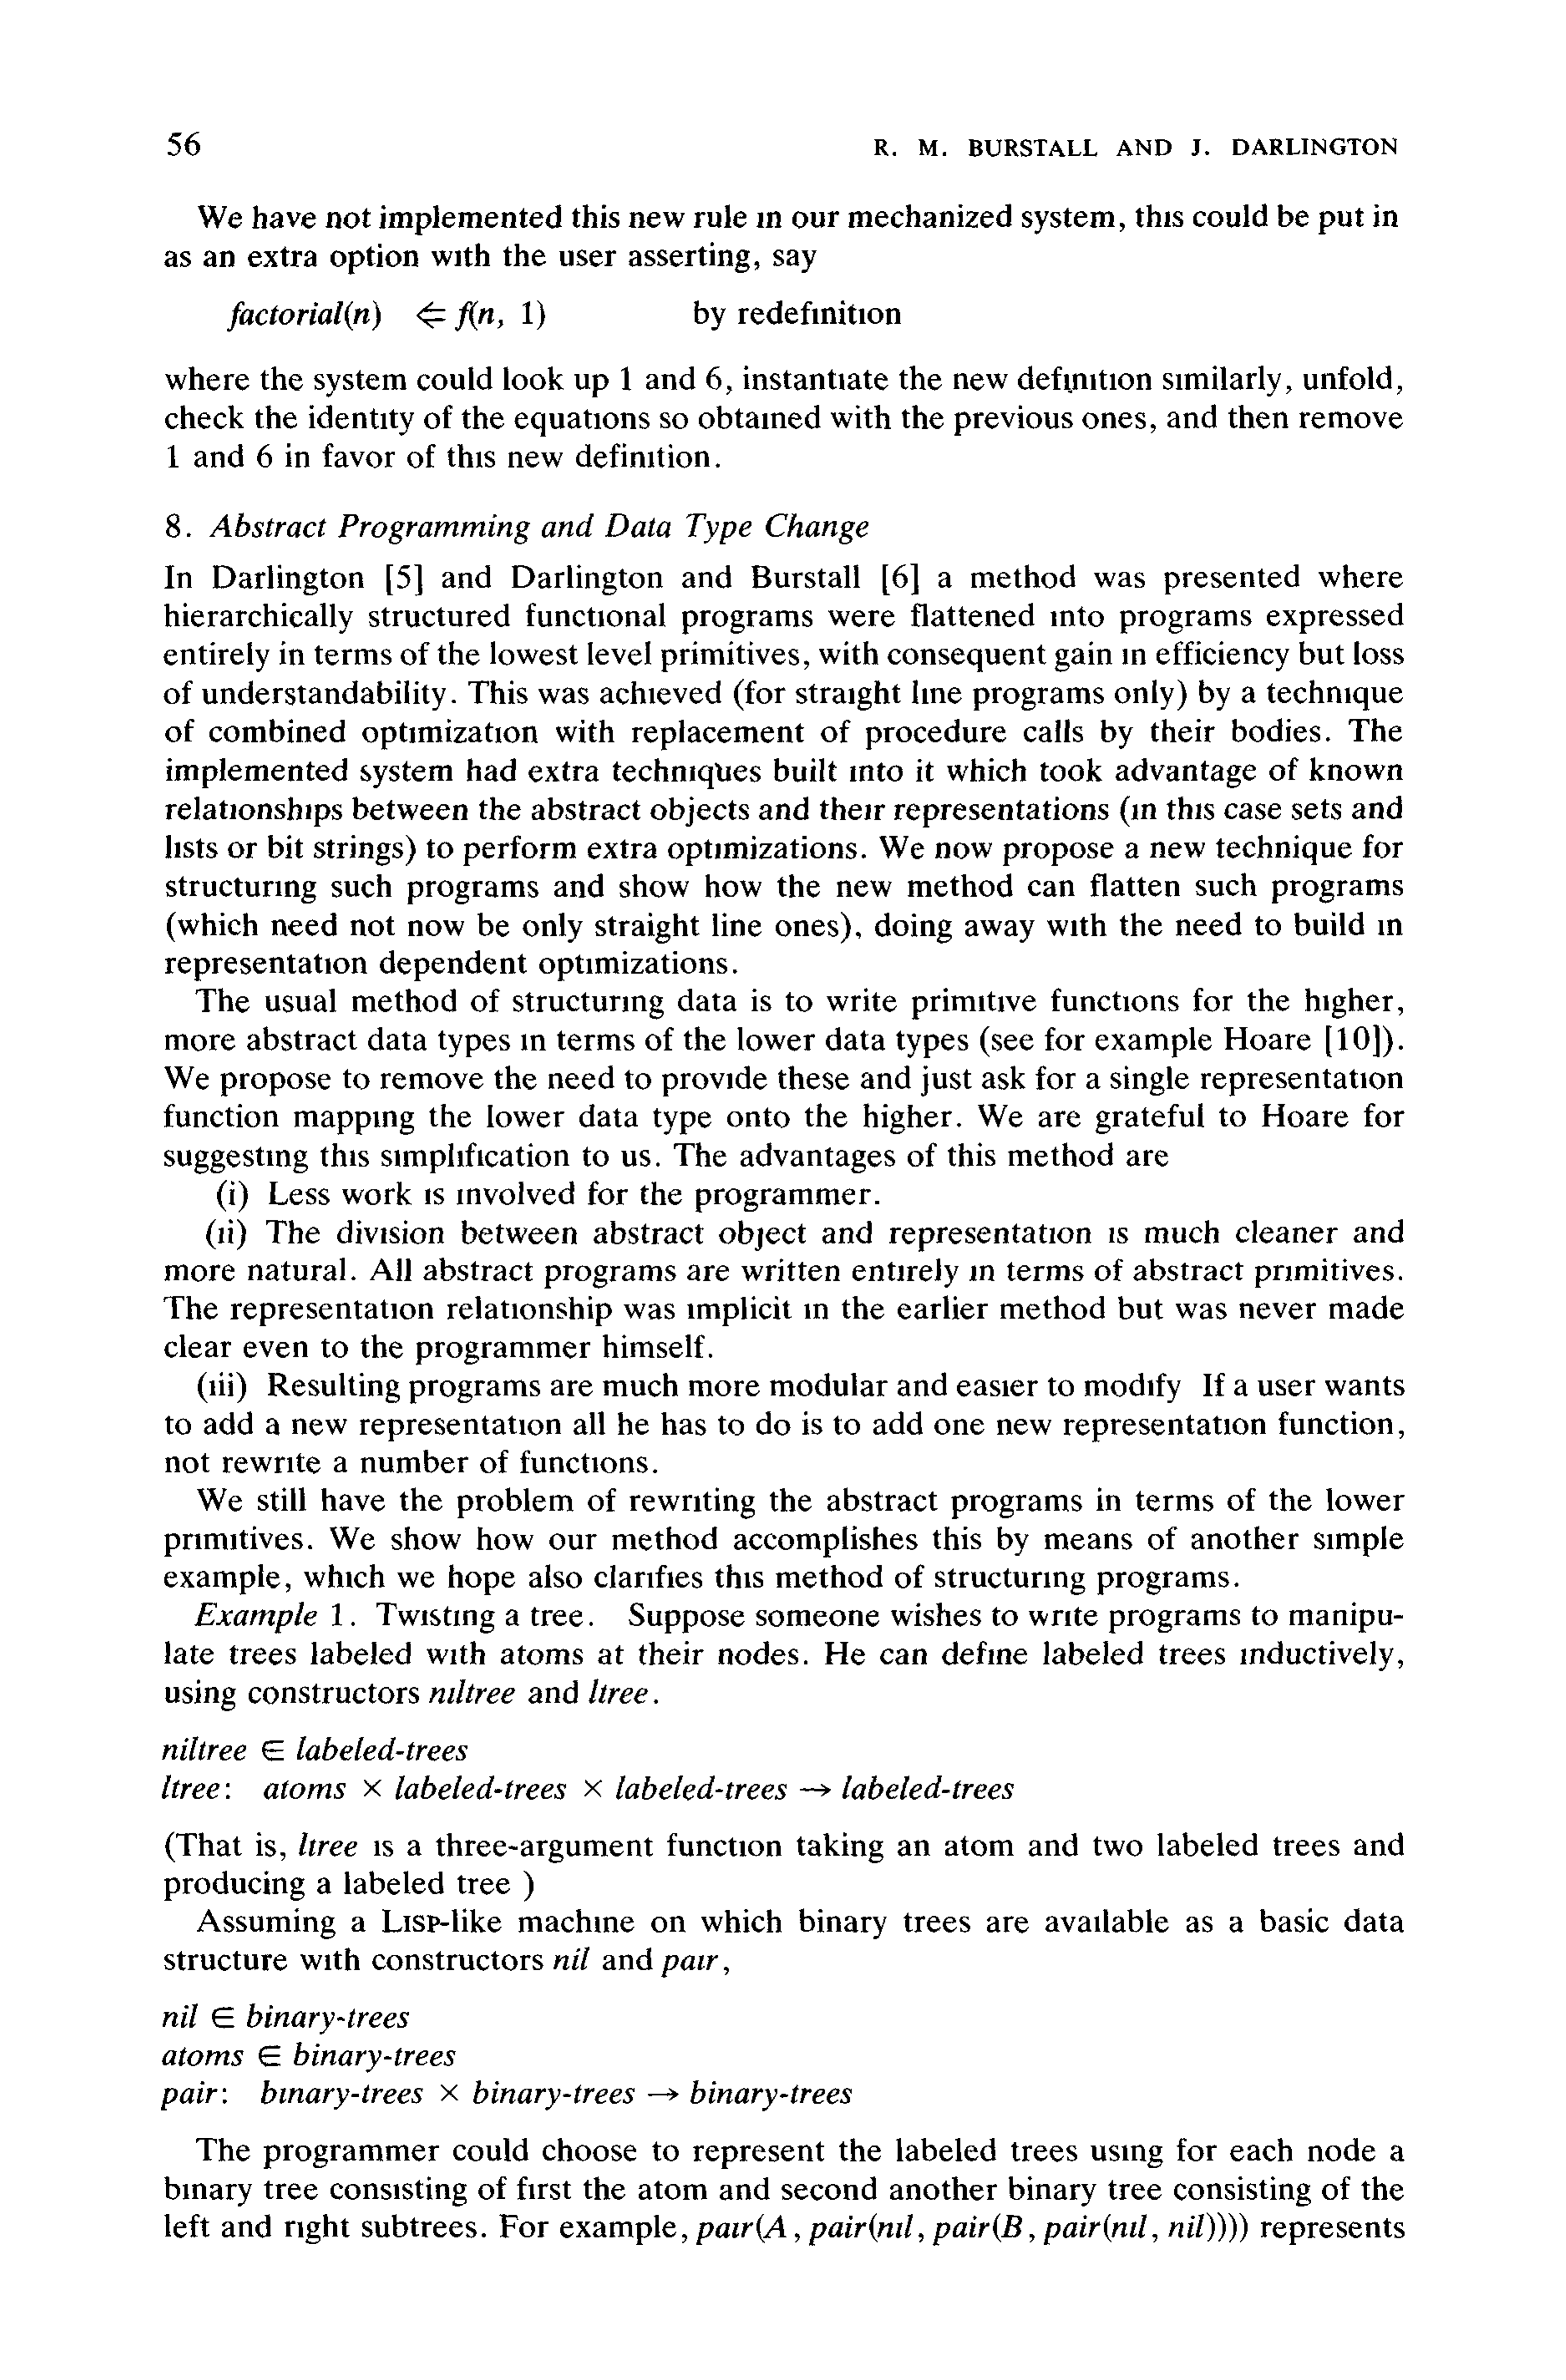maths: (161, 2079, 851, 2111), (163, 1775, 1014, 1800), (696, 2212, 1248, 2245), (227, 301, 545, 332), (163, 2041, 456, 2072), (163, 2003, 409, 2034), (163, 1737, 468, 1761), (430, 1679, 516, 1704), (589, 1679, 648, 1704), (299, 1833, 357, 1856), (661, 1955, 718, 1978), (554, 1947, 589, 1969), (229, 804, 236, 820)
